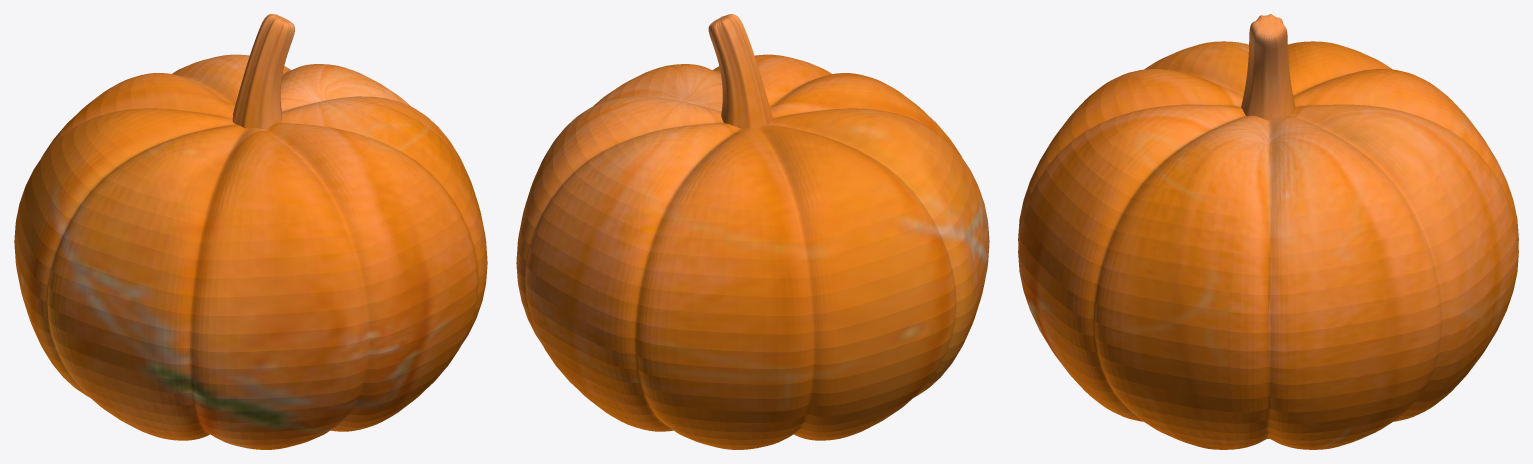
File: pumpkin.fbx
3 renders of one model, left to right at view 1: azimuth 30°, elevation 25°; view 2: azimuth 150°, elevation 25°; view 3: azimuth 270°, elevation 25°, orthographic. The views are drawn at different scales.
Parts seen in each view (by area): view 1: pumpkin; view 2: pumpkin; view 3: pumpkin.
Part boxes in pixels (x1,y1,x2,y2): pumpkin: [14, 14, 487, 449]; pumpkin: [516, 14, 989, 449]; pumpkin: [1018, 14, 1518, 449].
Size of the model in its own units: 169 by 147 by 169.
1 material, 1 textured.
